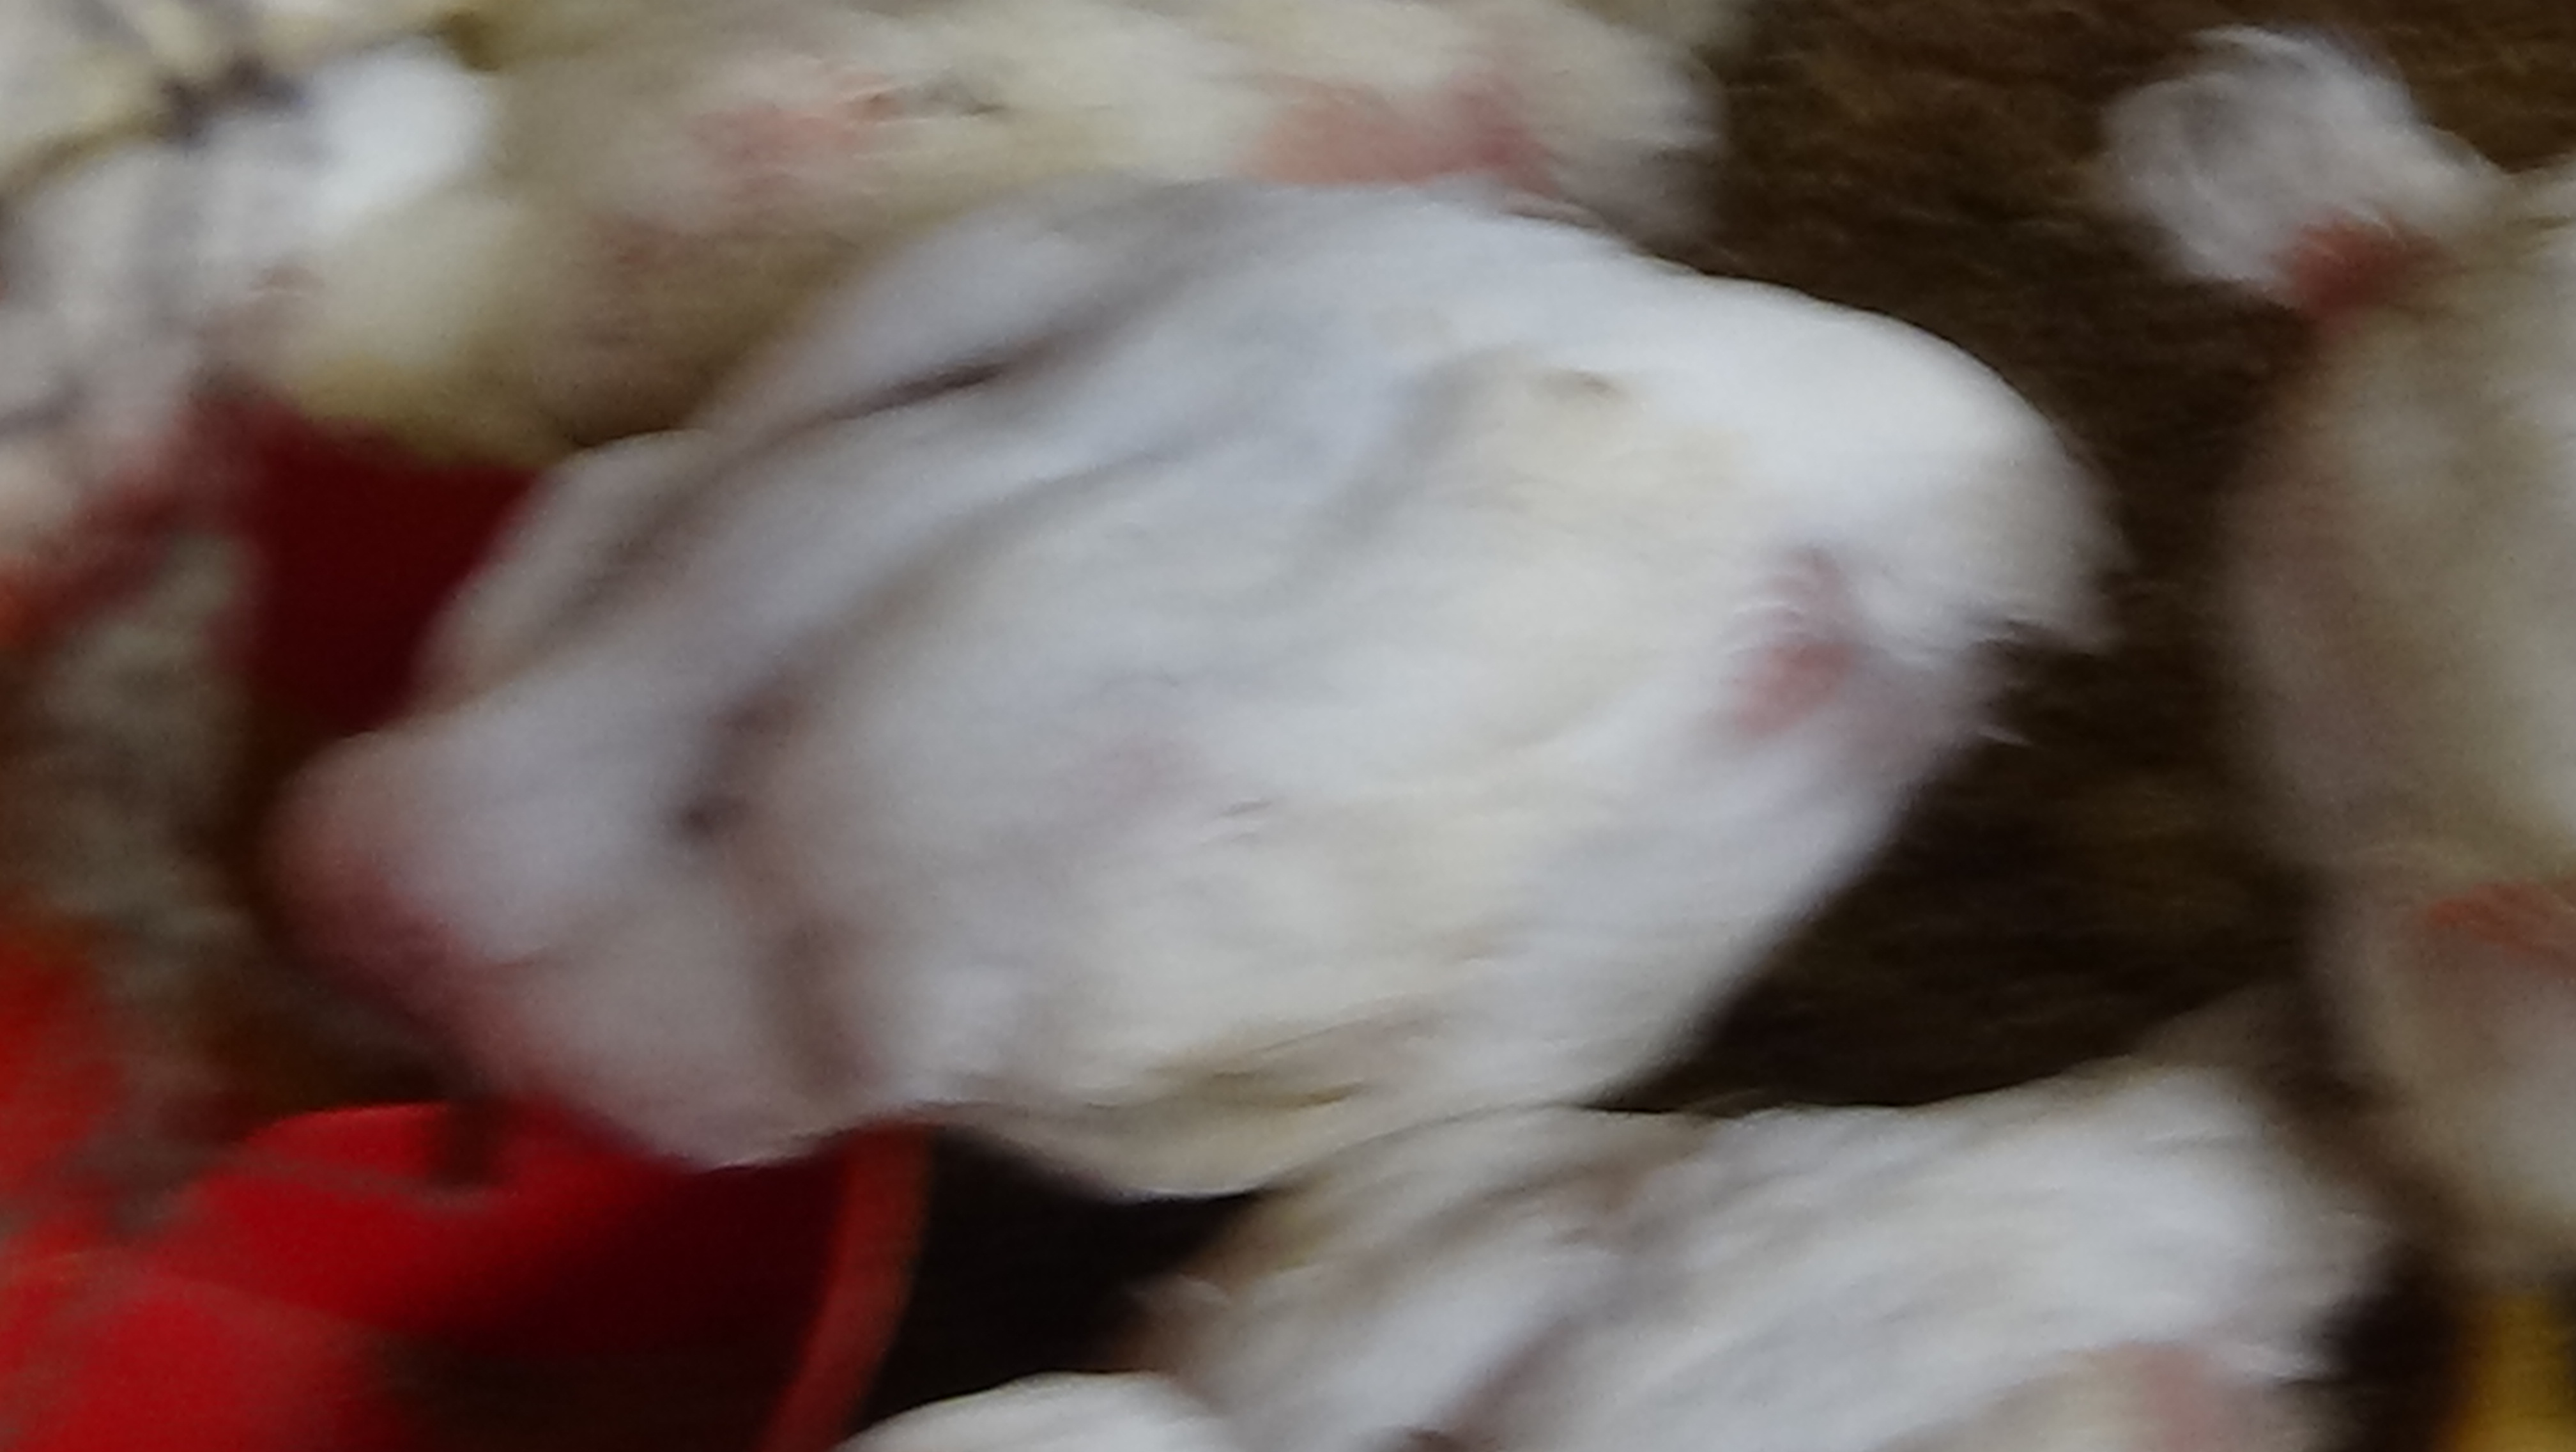Pollos: (211, 216, 2148, 1234)
